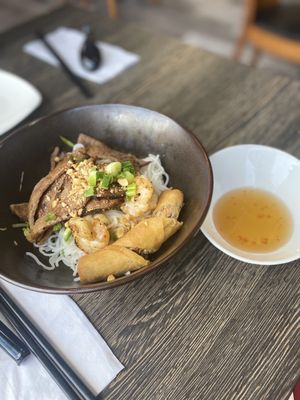sushi: (1, 102, 214, 295), (200, 144, 300, 267)
